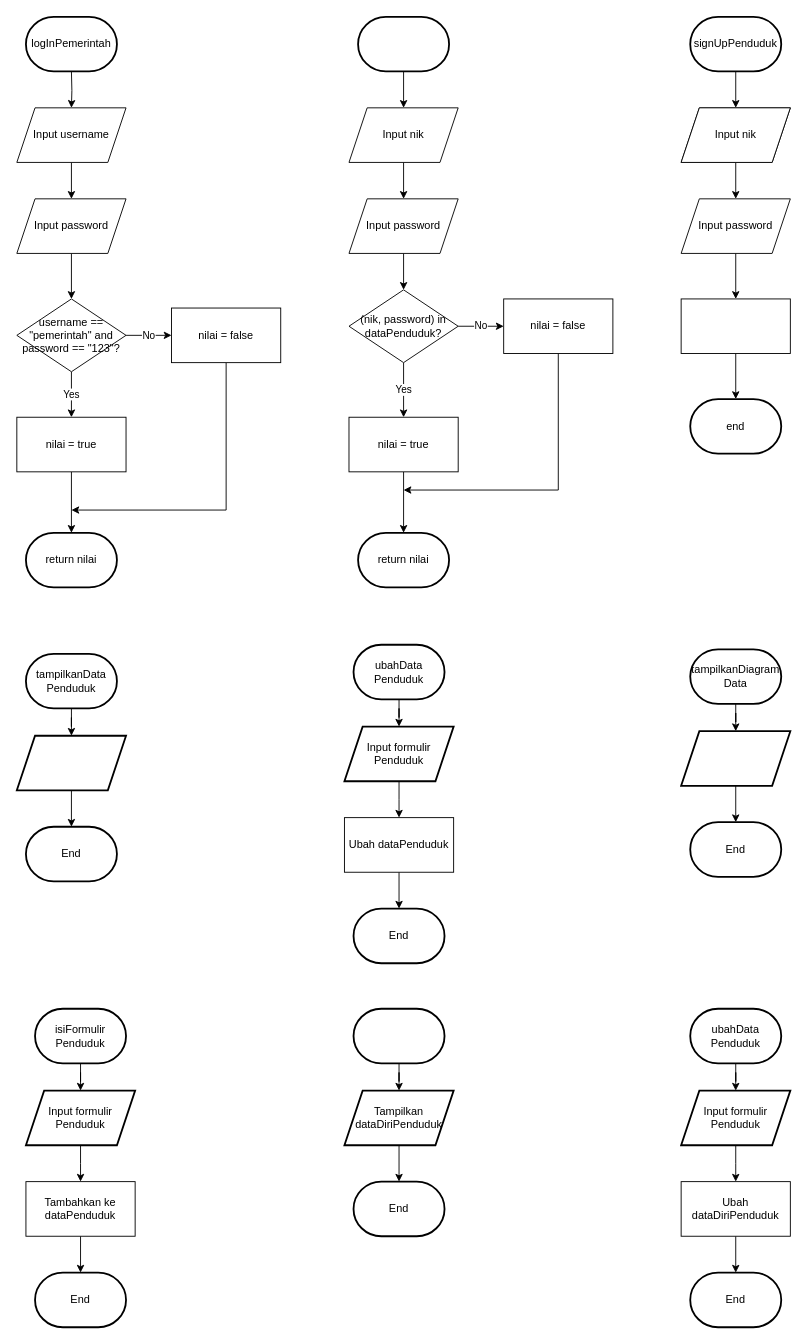
This 806x1343 diagram has some shape labels left out. The shapes that lost their labels are listed below. From the top down, each one's centre as x and y in pixels, then its label:
At (403,43): "logInPenduduk".
At (735,326): "Tambahkan (nik, password) ke dataPenduduk".
At (70,762): "Tampilkan dataPenduduk".
At (735,758): "Tampilkan diagramData Penduduk".
At (398,1035): "tampilkanData Diri".
